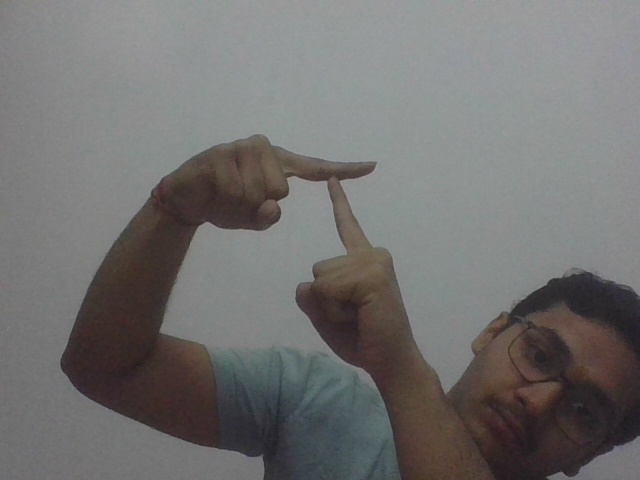T: (184, 128, 421, 360)
